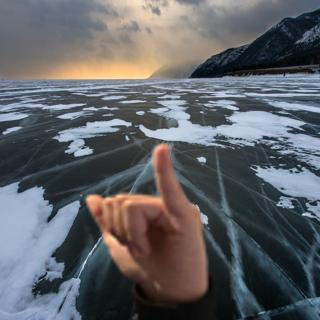HAVE: (69, 140, 216, 309)
